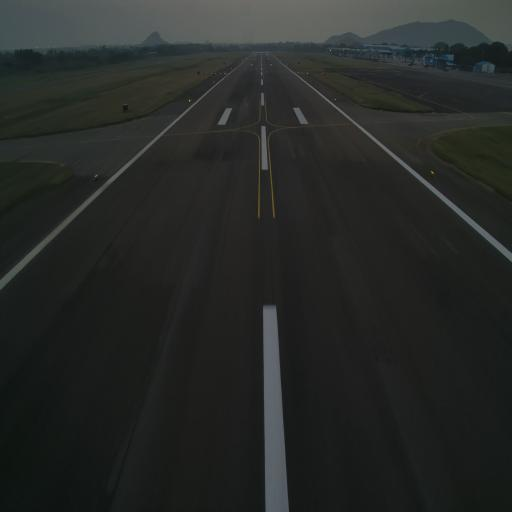on: (429, 168, 436, 177), (94, 172, 98, 182), (189, 98, 191, 103), (334, 98, 336, 102), (212, 80, 214, 84), (309, 80, 311, 84)
